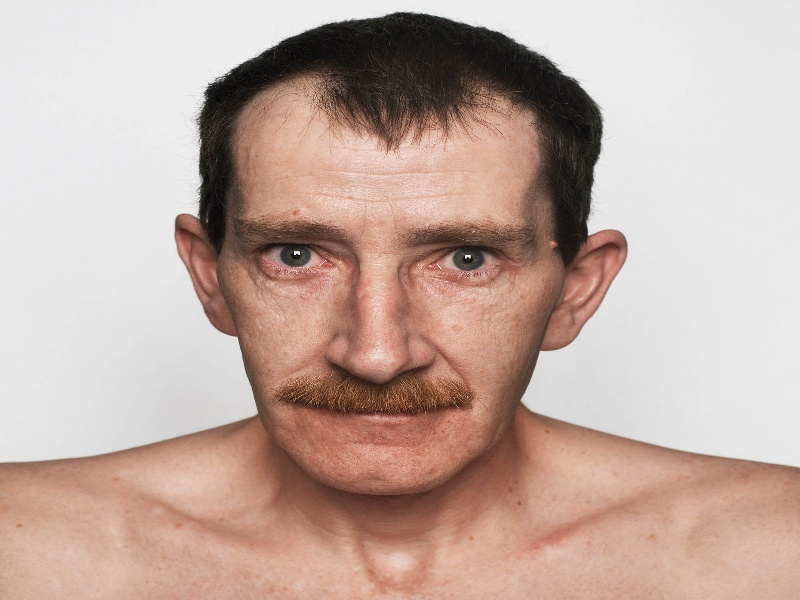face: (246, 216, 520, 435)
